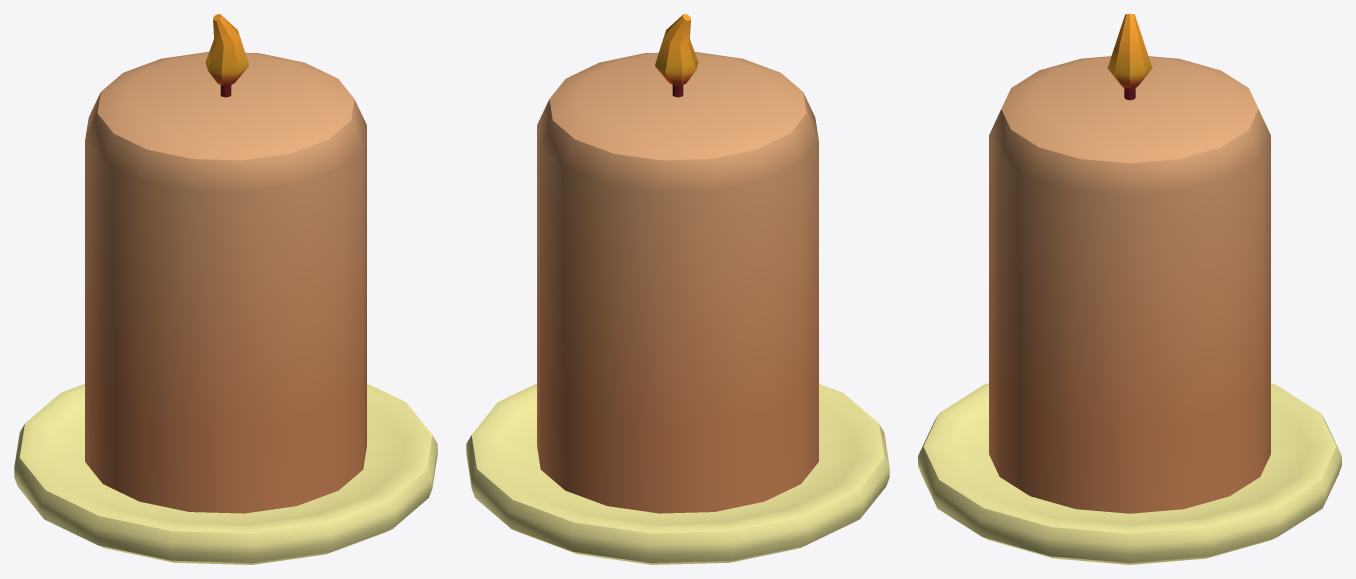
The model's file is Candle_big.fbx.
The picture shows the model from 3 angles, left to right: view 1: azimuth 30°, elevation 25°; view 2: azimuth 150°, elevation 25°; view 3: azimuth 270°, elevation 25°; orthographic projection.
Visible parts, largest first — view 1: Candle_big; view 2: Candle_big; view 3: Candle_big.
Part boxes in pixels (left/top/right/bottom): Candle_big: left=14, top=14, right=437, bottom=564; Candle_big: left=466, top=14, right=889, bottom=564; Candle_big: left=918, top=14, right=1341, bottom=564.
Bounding box in the file's own units: 50.13 × 62.21 × 50.13.
